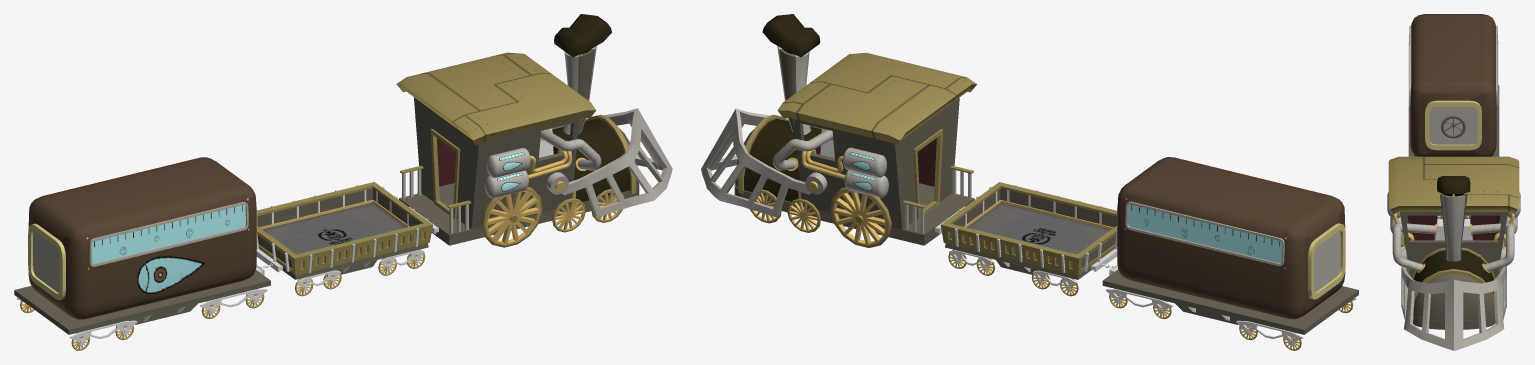
File: TrenPstomV2_01.fbx
3 views of the same model, side by side, from view 1: azimuth 30°, elevation 25°; view 2: azimuth 150°, elevation 25°; view 3: azimuth 270°, elevation 25° (orthographic). The views are drawn at different scales.
Visible parts, largest first — view 1: Box121, Cylinder035, Cylinder047, Box019, Box142; view 2: Box121, Cylinder035, Cylinder047, Box019, Box142; view 3: Cylinder035, Box121, Cylinder047, Box142, Box144.
Boxes of the visible parts, x1,y1,x2,y2 form: Box121: (14,157,270,334); Cylinder035: (396,52,639,245); Cylinder047: (400,14,672,247); Box019: (257,182,432,279); Box142: (484,148,530,198); Box121: (1102,157,1358,334); Cylinder035: (734,52,976,245); Cylinder047: (701,14,973,247); Box019: (940,182,1116,279); Box142: (843,147,888,197); Cylinder035: (1388,156,1519,329); Box121: (1408,14,1499,156); Cylinder047: (1392,176,1514,350); Box142: (1387,191,1520,233); Box144: (1434,219,1472,240).
Bounding box in the file's own units: 2610 × 721 × 578.
